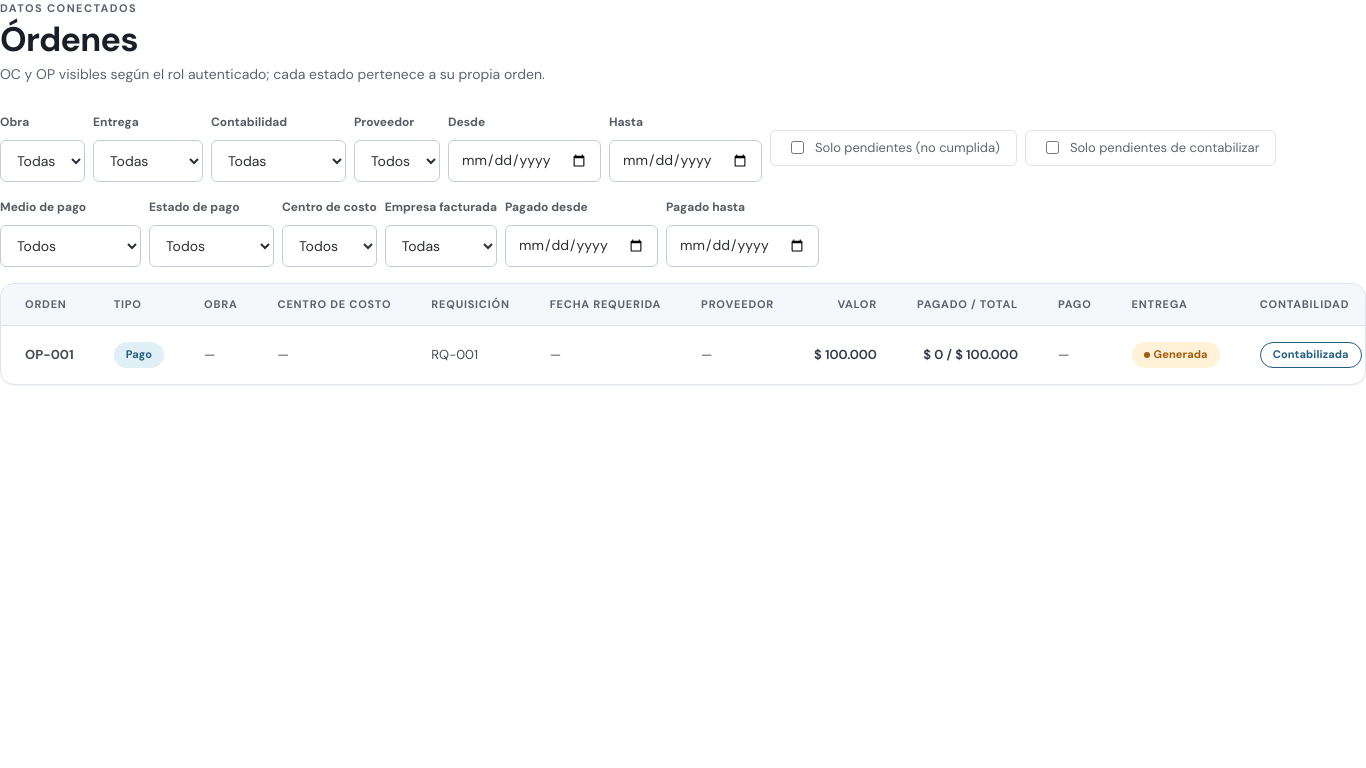
«Pagar saldo» exige también poder registrar pagos › con los dos permisos lo sigue ofreciendo
The width and height of the screenshot is (1366, 768).
Click the text "OP-001": (49, 354) left=25, top=346, right=74, bottom=363
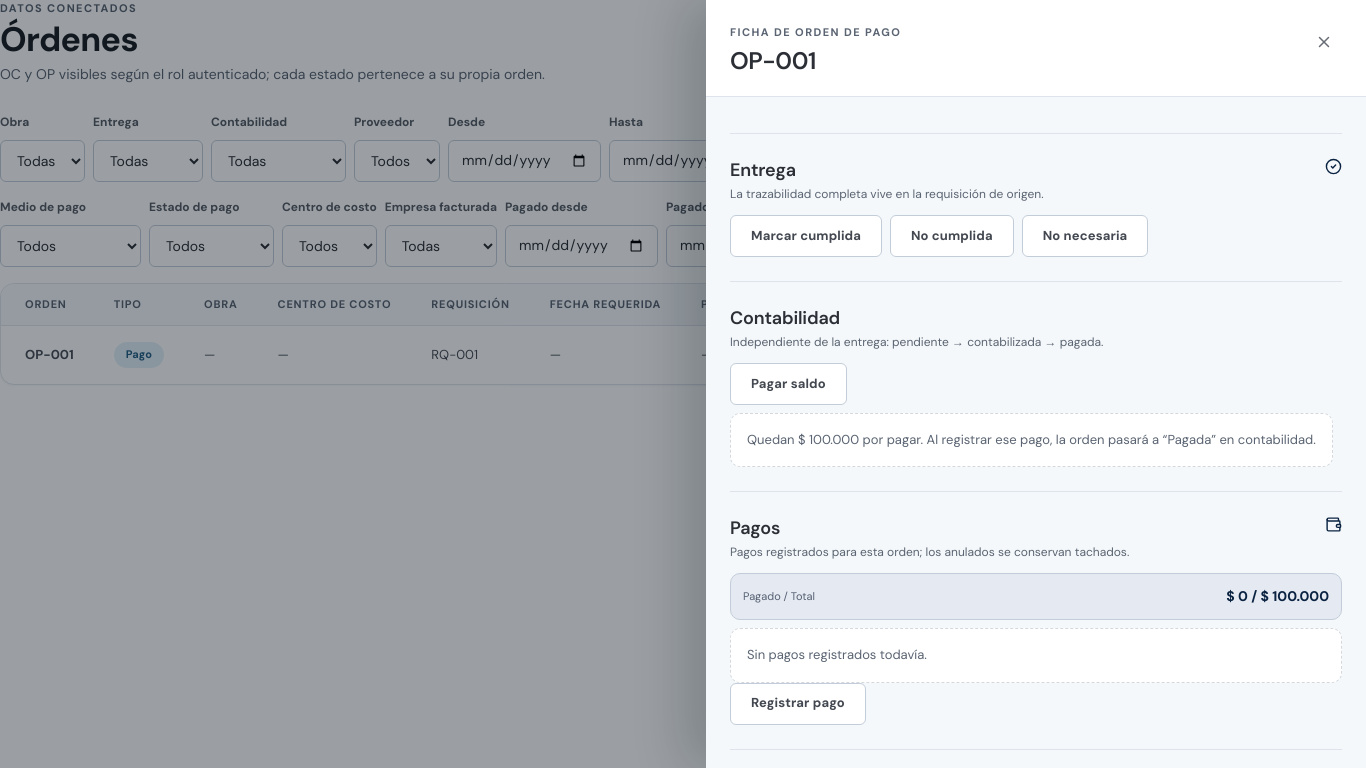
Expected: the button "Pagar saldo" is shown, left=730, top=363, right=847, bottom=405
